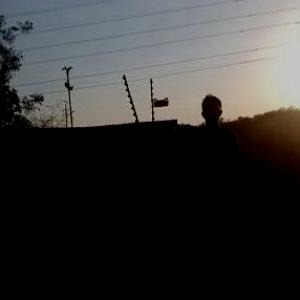follow: (183, 88, 246, 291)
